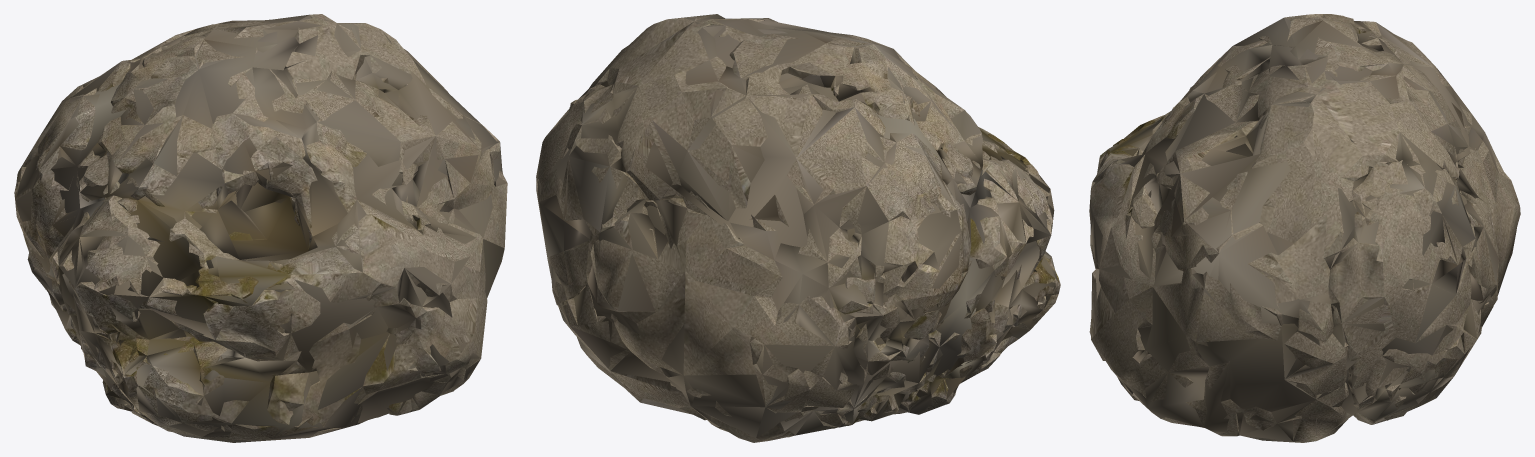
File: risco_mole.glb
3 renders of one model, left to right at view 1: azimuth 30°, elevation 25°; view 2: azimuth 150°, elevation 25°; view 3: azimuth 270°, elevation 25°, orthographic. The views are drawn at different scales.
Parts seen in each view (by area): view 1: cerca, medio, lejos; view 2: cerca, medio, lejos; view 3: cerca, medio, lejos.
Boxes of the visible parts, x1,y1,x2,y2 form: cerca: (14,14,507,442); medio: (15,14,507,442); lejos: (44,22,504,442); cerca: (536,14,1060,442); medio: (538,14,1057,434); lejos: (550,20,1055,437); cerca: (1089,14,1520,442); medio: (1089,17,1514,441); lejos: (1116,18,1519,435).
Bounding box in the file's own units: 3.93 × 3 × 3.46.
Materials: 2 (1 with a texture image).
